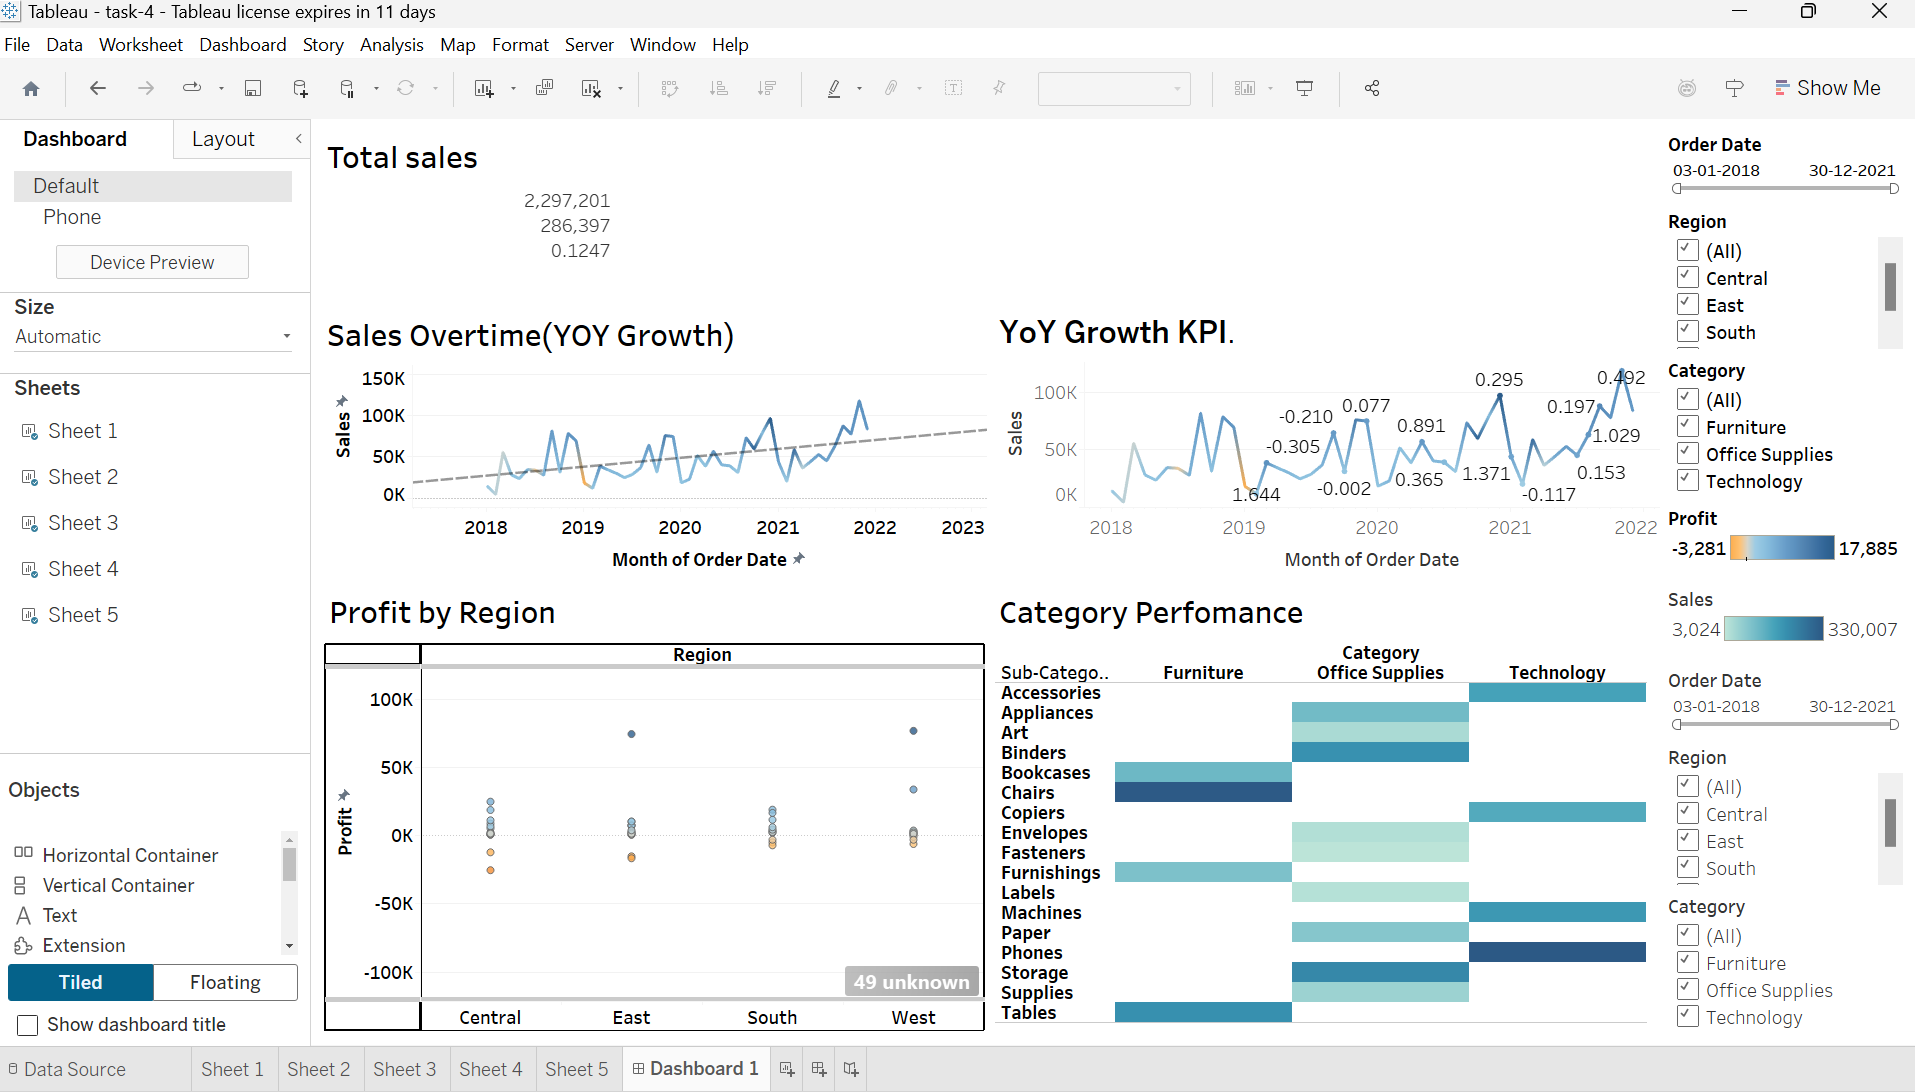

This screenshot's page, from the dashboard's own definition file:
{"tool":"tableau","page":{"name":"Dashboard 1","canvas":[1000,1000],"units":"permille","ordinal":0},"visuals":[{"type":"worksheet","title":"Sheet 1","mark":"Automatic","box":[5,8.6,838.5,192.2]},{"type":"filter","title":"Sheet 2","param":"[federated.1a4nk0003as7f711wtbis03iq64w].[none:Order Date:qk]","box":[843.5,8.6,151.5,83.2]},{"type":"filter","title":"Sheet 2","param":"[federated.1a4nk0003as7f711wtbis03iq64w].[none:Region:nk]","box":[843.5,91.8,151.5,160.9]},{"type":"worksheet","title":"Sheet 2","mark":"Automatic","rows":["Sales"],"cols":["Order Date"],"box":[5,200.9,418.9,299.1]},{"type":"worksheet","title":"Sheet 5","mark":"Automatic","rows":["Sales"],"cols":["Order Date"],"box":[423.9,200.9,419.6,299.1]},{"type":"filter","title":"Sheet 2","param":"[federated.1a4nk0003as7f711wtbis03iq64w].[none:Category:nk]","box":[843.5,252.7,151.5,159.8]},{"type":"legend","title":"Sheet 2","param":"[federated.1a4nk0003as7f711wtbis03iq64w].[sum:Profit:qk]","box":[843.5,412.5,151.5,87.5]},{"type":"worksheet","title":"Sheet 3","mark":"Multipolygon","rows":["Profit"],"cols":["Region"],"box":[5,500,419.2,491.4]},{"type":"worksheet","title":"Sheet 4","mark":"Square","rows":["Sub-Category"],"cols":["Category"],"box":[424.1,500,419.4,491.4]},{"type":"legend","title":"Sheet 4","param":"[federated.1a4nk0003as7f711wtbis03iq64w].[sum:Sales:qk]","box":[843.5,500,151.5,87.5]},{"type":"filter","title":"Sheet 5","param":"[federated.1a4nk0003as7f711wtbis03iq64w].[none:Order Date:qk]","box":[843.5,587.5,151.5,83.2]},{"type":"filter","title":"Sheet 5","param":"[federated.1a4nk0003as7f711wtbis03iq64w].[none:Region:nk]","box":[843.5,670.6,151.5,160.9]},{"type":"filter","title":"Sheet 5","param":"[federated.1a4nk0003as7f711wtbis03iq64w].[none:Category:nk]","box":[843.5,831.5,151.5,159.8]}]}

Visuals, with their boxes on the dashboard's canvas, which has no fixed pixel size, in thousandths of its width and height (x1, y1, x2, y2). These are canvas units, not pixel positions in the 1915x1092 screenshot, which may show the page scaled, cropped or inside an application window:
"Sheet 1" worksheet: (x1=5, y1=9, x2=844, y2=201)
"Sheet 2" filter: (x1=844, y1=9, x2=995, y2=92)
"Sheet 2" filter: (x1=844, y1=92, x2=995, y2=253)
"Sheet 2" worksheet: (x1=5, y1=201, x2=424, y2=500)
"Sheet 5" worksheet: (x1=424, y1=201, x2=844, y2=500)
"Sheet 2" filter: (x1=844, y1=253, x2=995, y2=412)
"Sheet 2" legend: (x1=844, y1=412, x2=995, y2=500)
"Sheet 3" worksheet (Multipolygon marks): (x1=5, y1=500, x2=424, y2=991)
"Sheet 4" worksheet (Square marks): (x1=424, y1=500, x2=844, y2=991)
"Sheet 4" legend: (x1=844, y1=500, x2=995, y2=588)
"Sheet 5" filter: (x1=844, y1=588, x2=995, y2=671)
"Sheet 5" filter: (x1=844, y1=671, x2=995, y2=832)
"Sheet 5" filter: (x1=844, y1=832, x2=995, y2=991)
